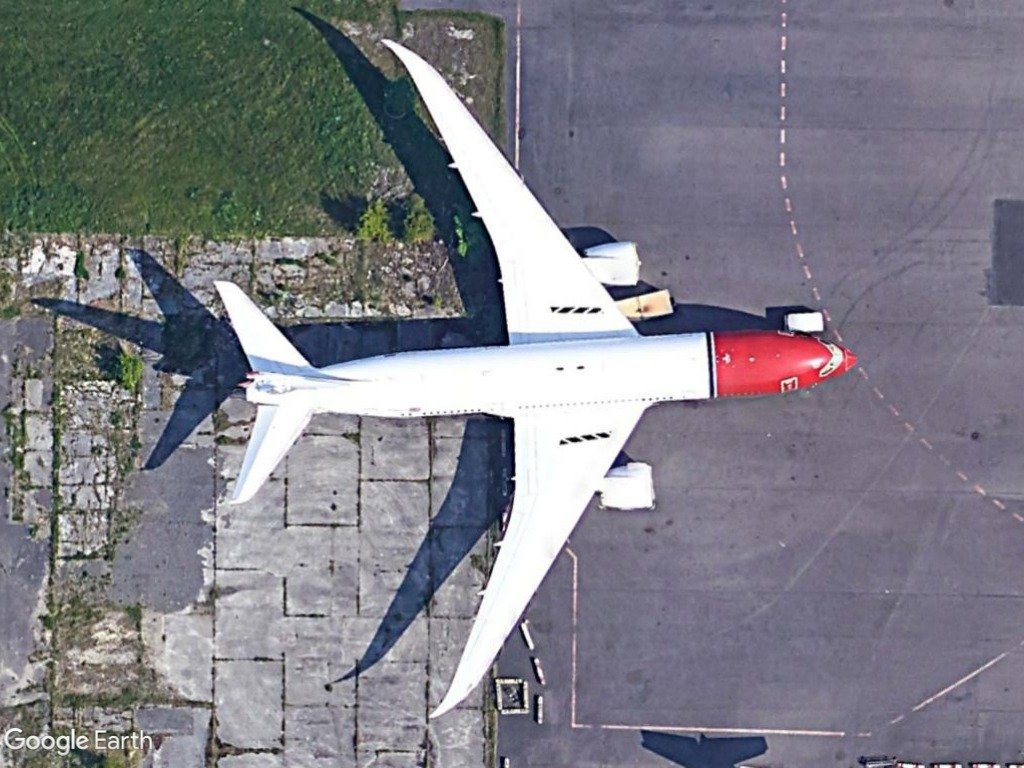airliner: (197, 32, 868, 728)
